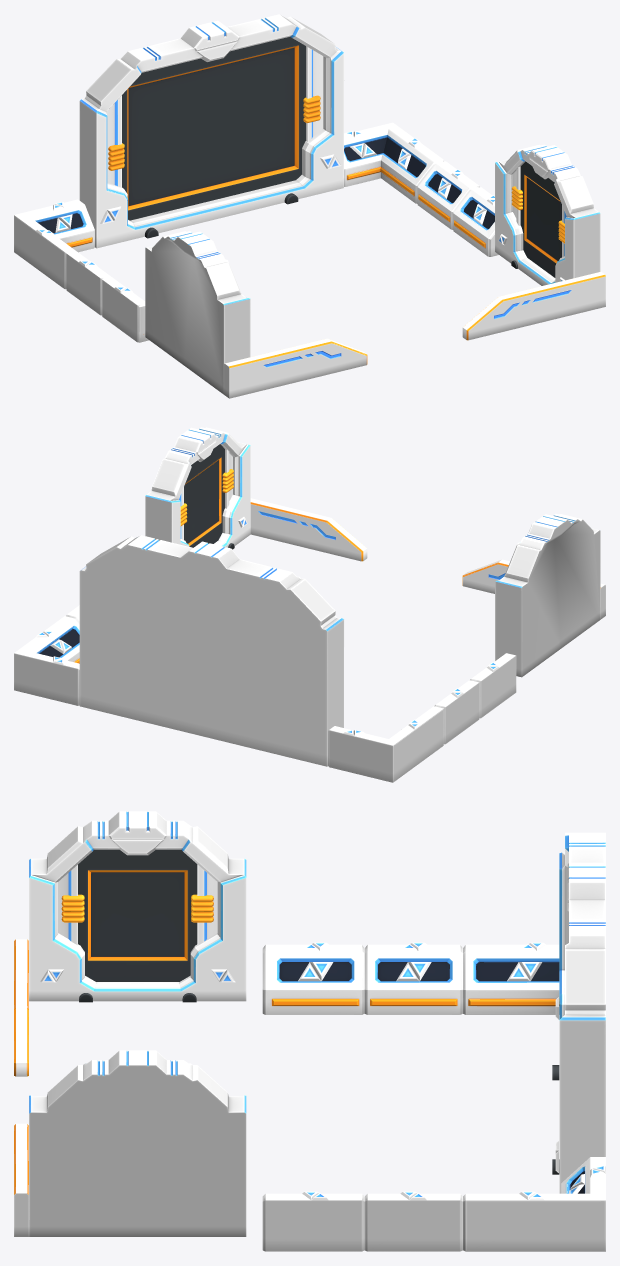
Rendered from obj_wall.gltf.
3 renders of one model, top to bottom at view 1: azimuth 30°, elevation 25°; view 2: azimuth 150°, elevation 25°; view 3: azimuth 270°, elevation 25°, orthographic. The views are drawn at different scales.
Visible parts, largest first — view 1: obj_wall; view 2: obj_wall; view 3: obj_wall.
Boxes of the visible parts, box(x1,y1,x2,y2) form: obj_wall: box(14, 14, 605, 398); obj_wall: box(14, 427, 605, 782); obj_wall: box(14, 811, 605, 1251).
Size of what is drawn, in the model's own units: 16 by 7.33 by 15.66.
5 materials, 5 textured.
